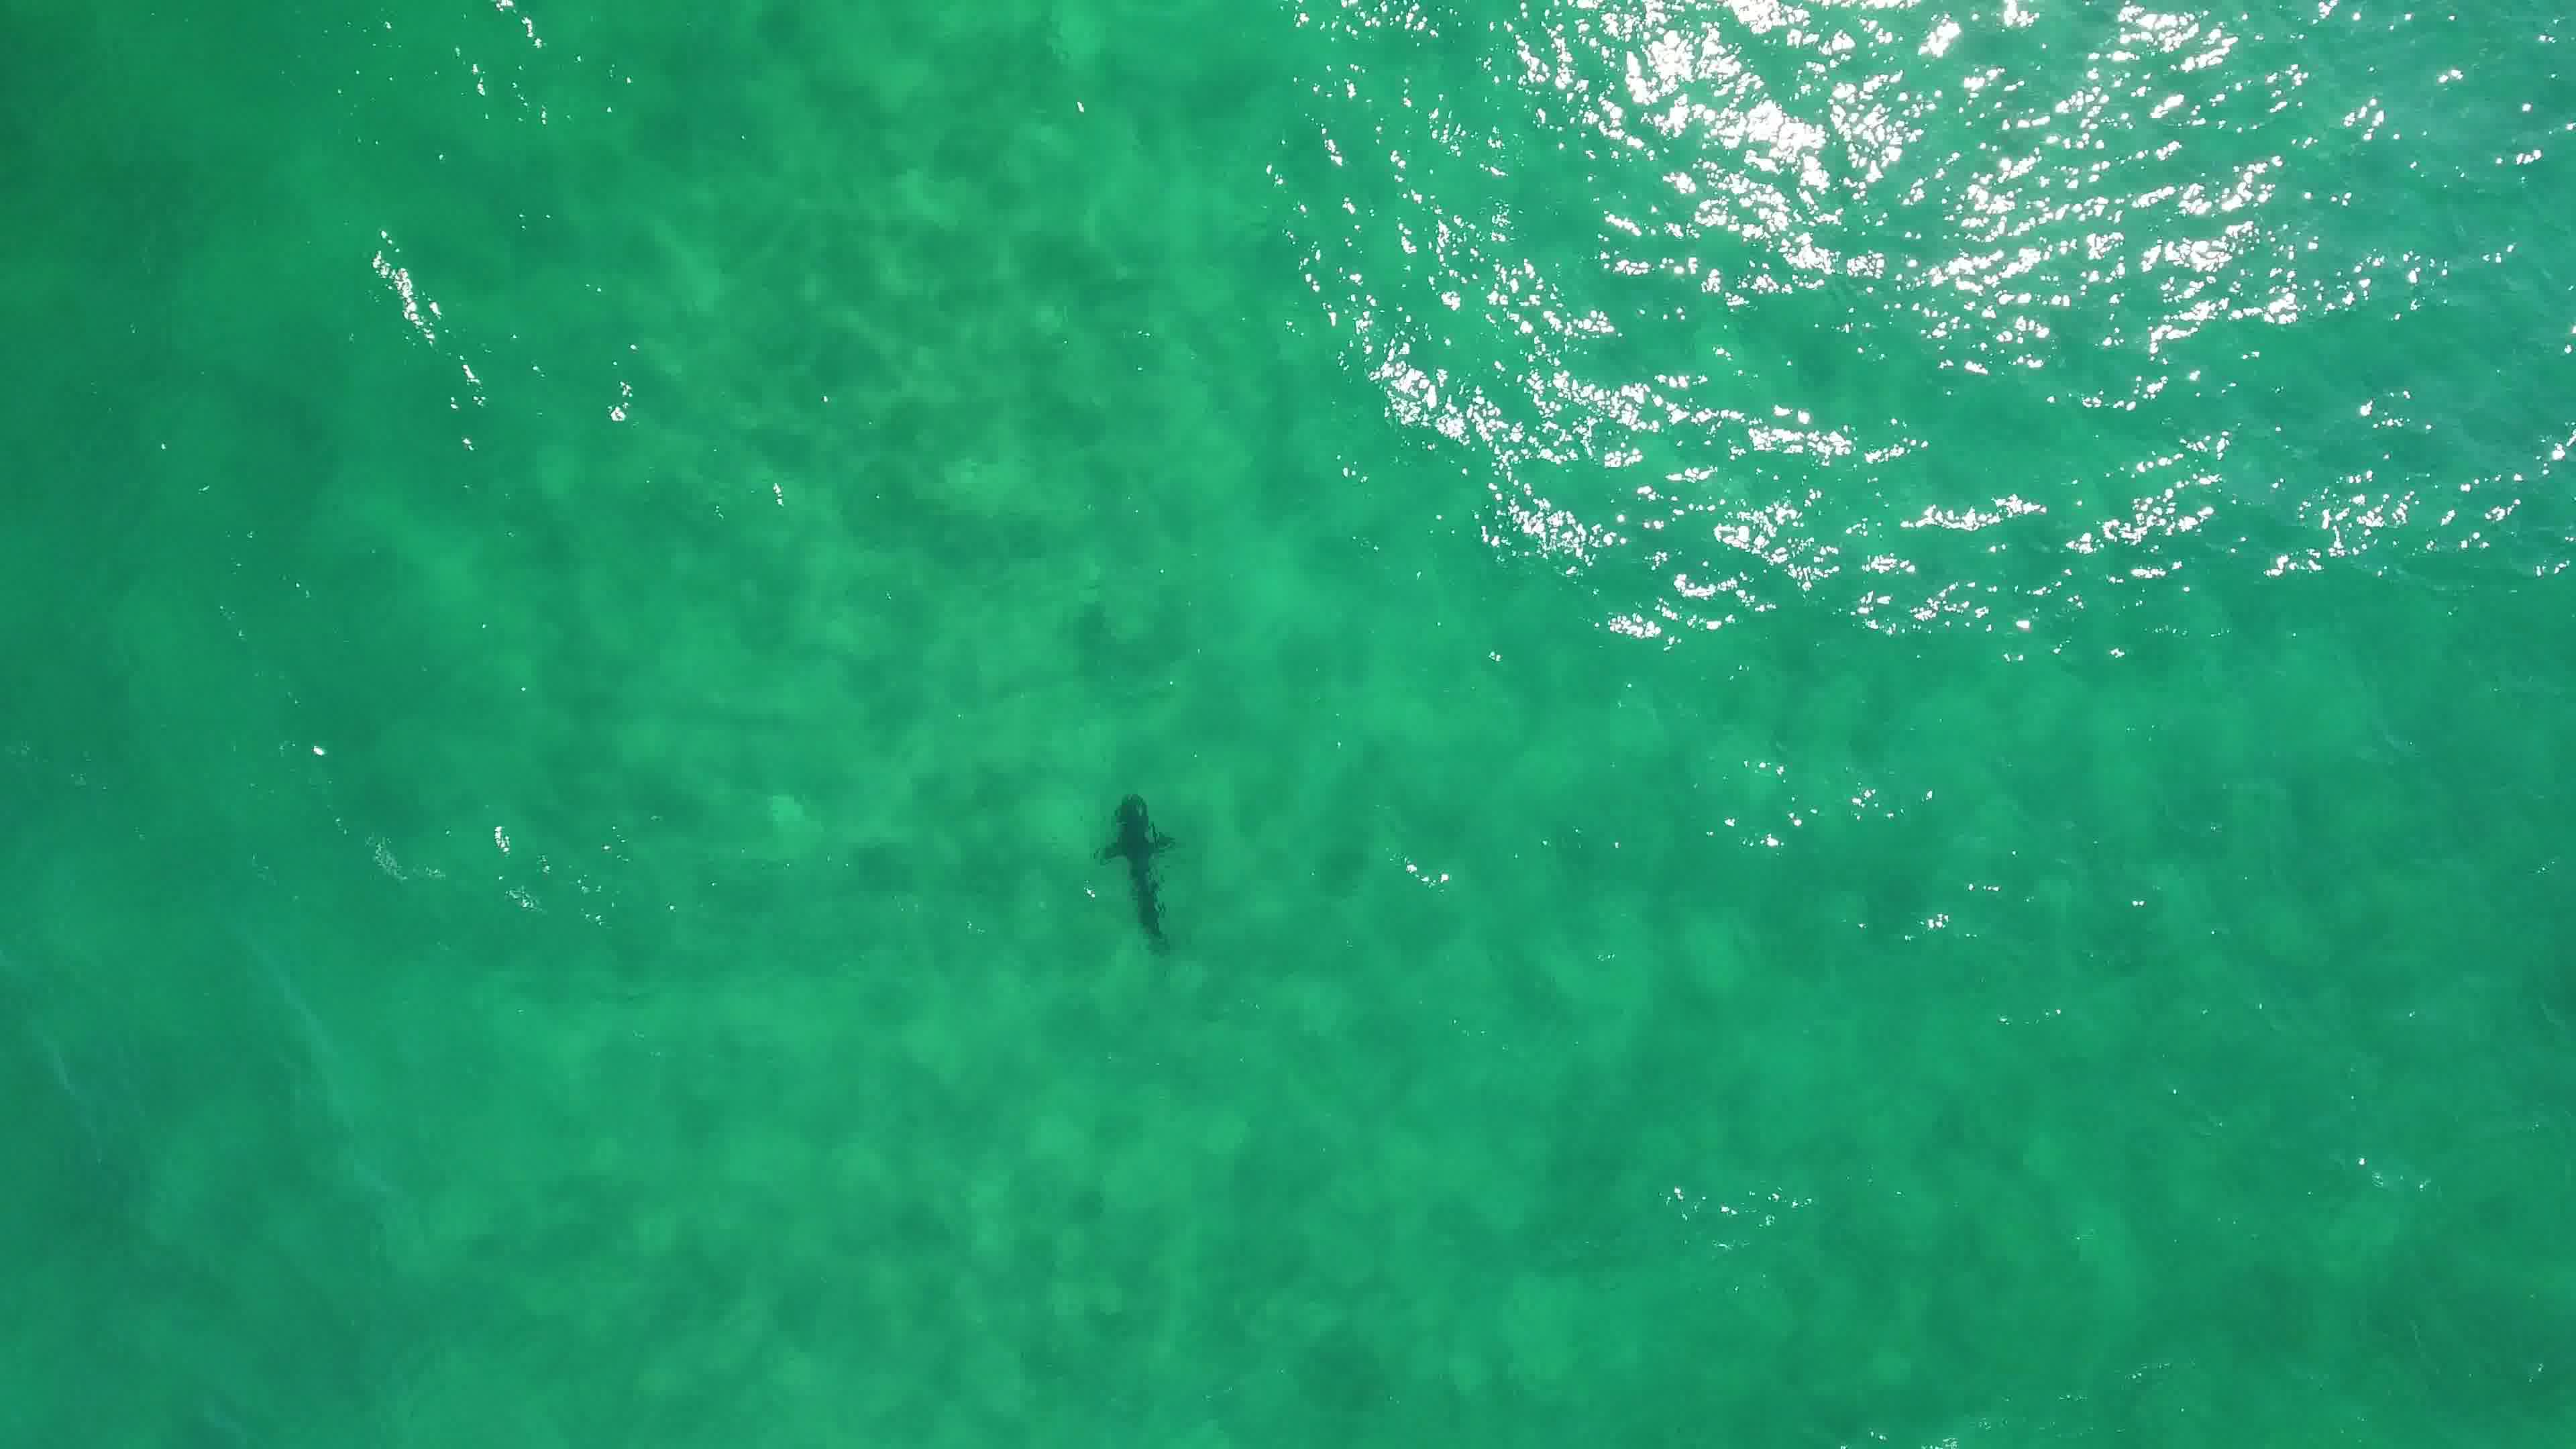shark: (1088, 787, 1184, 957)
